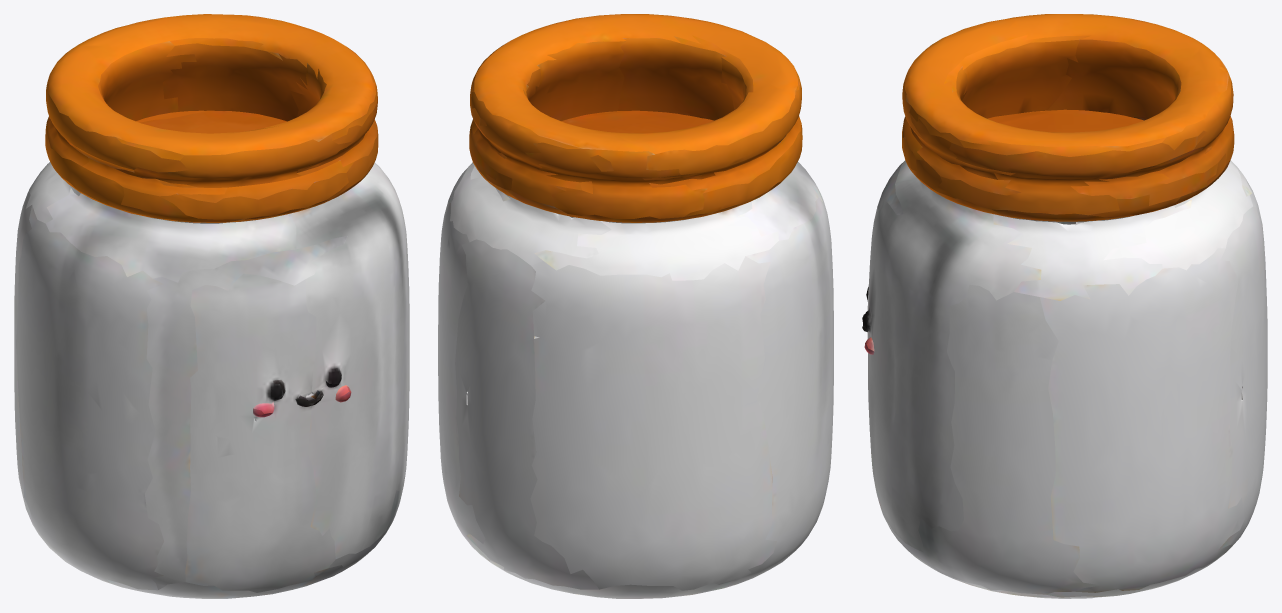
The model's file is x-ghostjar.glb.
3 views of the same model, side by side, from view 1: azimuth 30°, elevation 25°; view 2: azimuth 150°, elevation 25°; view 3: azimuth 270°, elevation 25° (orthographic).
Parts seen in each view (by area): view 1: geometry_0; view 2: geometry_0; view 3: geometry_0.
Part boxes in pixels (x1,y1,x2,y2): geometry_0: (14,14,409,598); geometry_0: (438,14,833,598); geometry_0: (862,14,1267,598).
Size of the model in its own units: 0.0862 by 0.11 by 0.0883.
1 material, 1 textured.
